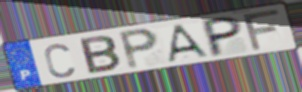A: (166, 23, 212, 65)
B: (78, 34, 124, 76)
C: (42, 42, 77, 80)
F: (241, 7, 283, 53)
P: (116, 27, 161, 72), (202, 14, 243, 59)
